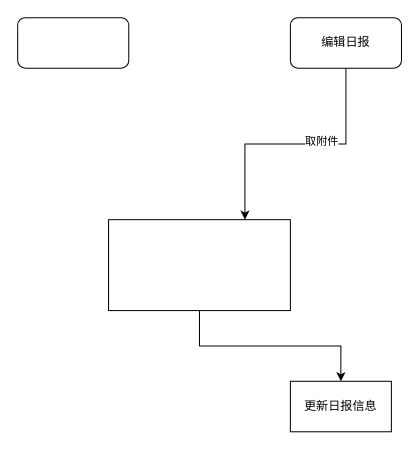
Image size: 419x449. Some labels were removed from this diagram. The centre of each missing label's shape, as x and y in pixels:
DocumentObj ReportId: point (199, 265)
提交日报-带附件: point (73, 42)
